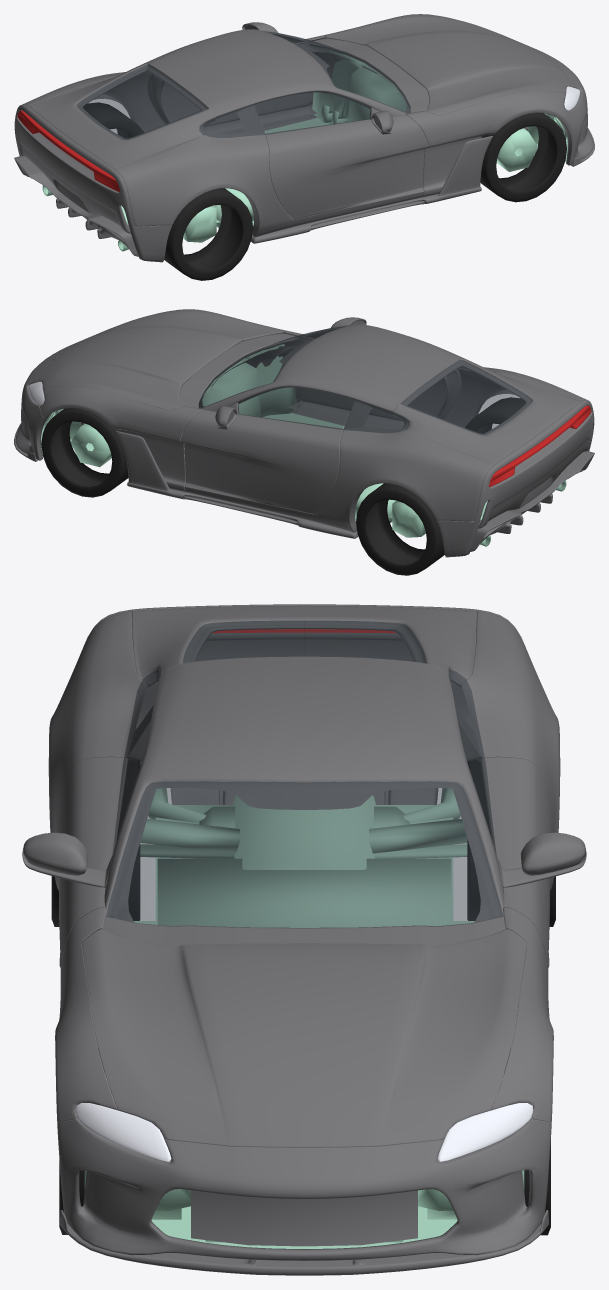
Rendered from coupe.glb.
3 renders of one model, top to bottom at view 1: azimuth 30°, elevation 25°; view 2: azimuth 150°, elevation 25°; view 3: azimuth 270°, elevation 25°, orthographic. The views are drawn at different scales.
Visible parts, largest first — view 1: body.001|car-body, hood.001, door.r.001, trunk.001|car-body, rear-bumper.001, side-fender.r.001, glass-rear.001, tyre_rr_tyre, tyre_fr_tyre, zone_engine_9, window-front.r.001, glass-windshield.001 (+12 smaller); view 2: body.001|car-body, hood.001, door.l.001, trunk.001|car-body, rear-bumper.001, side-fender.l.001, glass-rear.001, tyre_rl_tyre, tyre_fl_tyre, window-front.l.001, zone_engine_9, glass-windshield.001 (+12 smaller); view 3: hood.001, body.001|car-body, glass-windshield.001, front-bumper.001, zone_fuel, trunk.001|car-body, zone_engine_0, front-grille-texture.001, glass-rear.001, door.l.001, door.r.001, side-fender.l.001 (+21 smaller).
Part boxes in pixels (x1,y1,x2,y2): body.001|car-body: (23,29,527,237); hood.001: (325,14,571,115); door.r.001: (265,114,428,219); trunk.001|car-body: (28,63,215,169); rear-bumper.001: (14,104,171,262); side-fender.r.001: (406,91,568,197); glass-rear.001: (77,64,207,139); tyre_rr_tyre: (164,188,252,280); tyre_fr_tyre: (480,113,566,202); zone_engine_9: (312,50,566,190); window-front.r.001: (255,92,370,134); glass-windshield.001: (262,31,410,113); body.001|car-body: (81,324,585,532); hood.001: (37,309,283,410); door.l.001: (180,409,343,514); trunk.001|car-body: (393,358,580,464); rear-bumper.001: (437,399,594,557); side-fender.l.001: (40,386,202,492); glass-rear.001: (401,360,531,435); tyre_rl_tyre: (356,483,444,575); tyre_fl_tyre: (41,408,128,497); window-front.l.001: (238,387,353,429); zone_engine_9: (42,344,296,469); glass-windshield.001: (198,326,345,408); hood.001: (81,928,527,1147); body.001|car-body: (48,611,560,922); glass-windshield.001: (106,781,502,927); front-bumper.001: (57,1117,551,1260); zone_fuel: (157,858,451,927); trunk.001|car-body: (132,605,476,686); zone_engine_0: (134,795,474,1254); front-grille-texture.001: (191,1190,417,1246); glass-rear.001: (183,620,425,663); door.l.001: (480,757,552,969); door.r.001: (56,757,128,969); side-fender.l.001: (491,907,553,1122).
Bounding box in the file's own units: 4.73 × 1.35 × 2.27.
